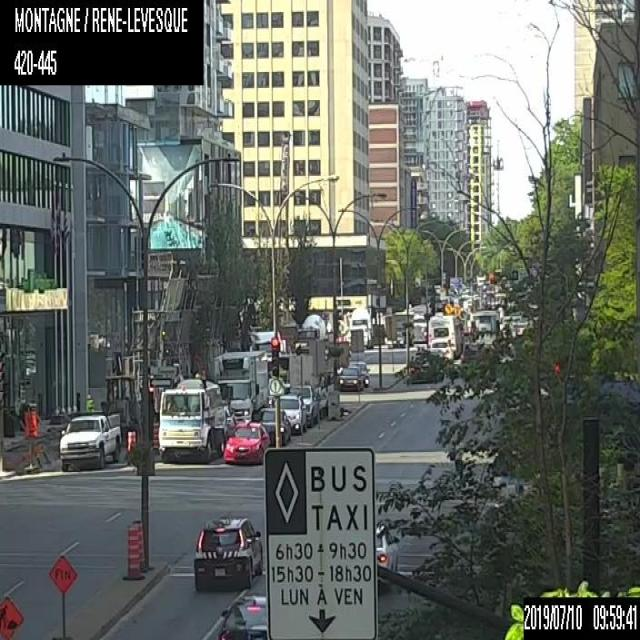bus: (426, 314, 461, 356)
construction: (50, 553, 77, 639), (123, 523, 142, 580), (0, 594, 22, 638), (133, 519, 147, 572), (24, 408, 36, 437), (149, 420, 158, 451), (126, 429, 136, 451)
vehicle: (157, 374, 224, 463), (192, 513, 260, 591), (57, 411, 122, 472), (213, 349, 266, 421), (219, 594, 269, 638), (224, 420, 271, 463), (287, 383, 319, 426), (256, 406, 291, 444), (278, 393, 307, 433), (376, 535, 399, 585), (409, 348, 443, 381), (427, 336, 454, 364), (338, 366, 363, 390), (346, 359, 369, 385), (222, 401, 235, 435), (391, 325, 406, 348)
